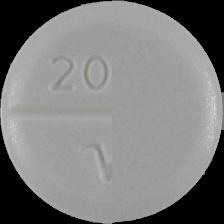67544-988: (0, 0, 224, 224)
